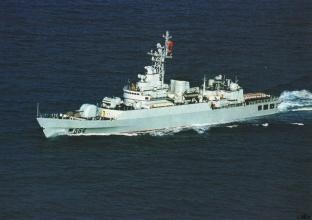warship: (31, 38, 272, 137)
